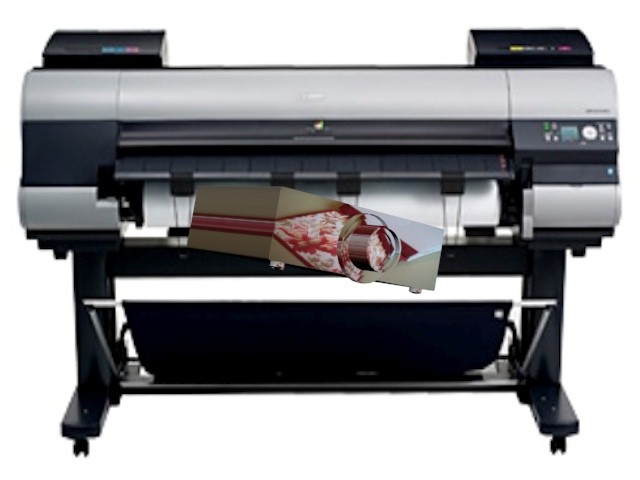projector: (177, 177, 448, 304)
